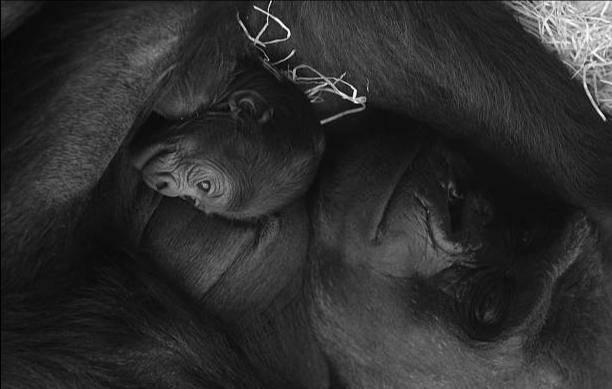gorille_Autres: (6, 0, 608, 389)
